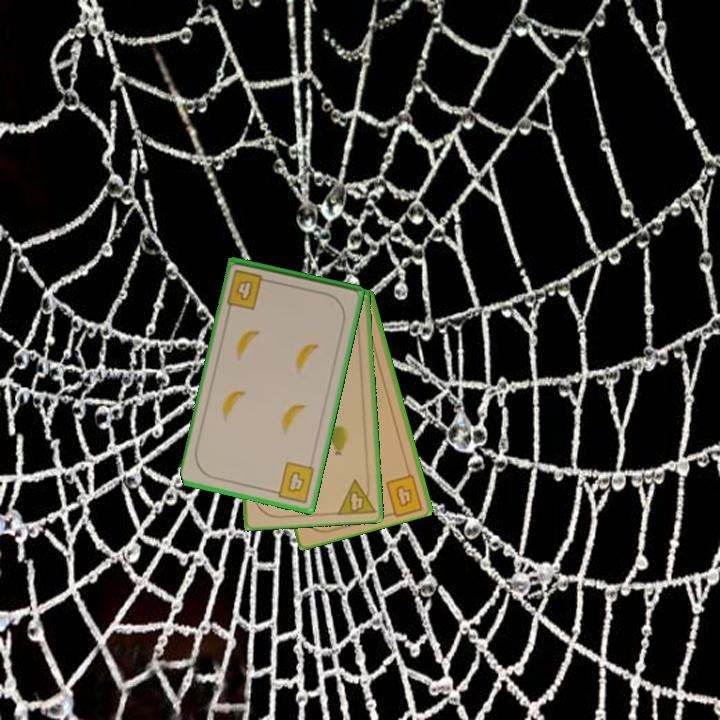4b: (268, 458, 318, 506), (223, 266, 274, 312), (393, 482, 416, 510)
4p: (334, 474, 378, 518)
